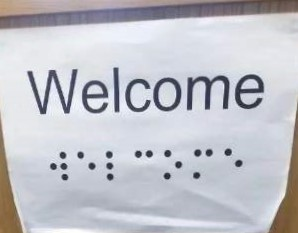Braille: (162, 148, 184, 182), (193, 147, 214, 182), (223, 147, 243, 182), (105, 150, 126, 183), (134, 150, 155, 182), (49, 151, 69, 182), (77, 150, 96, 181)
